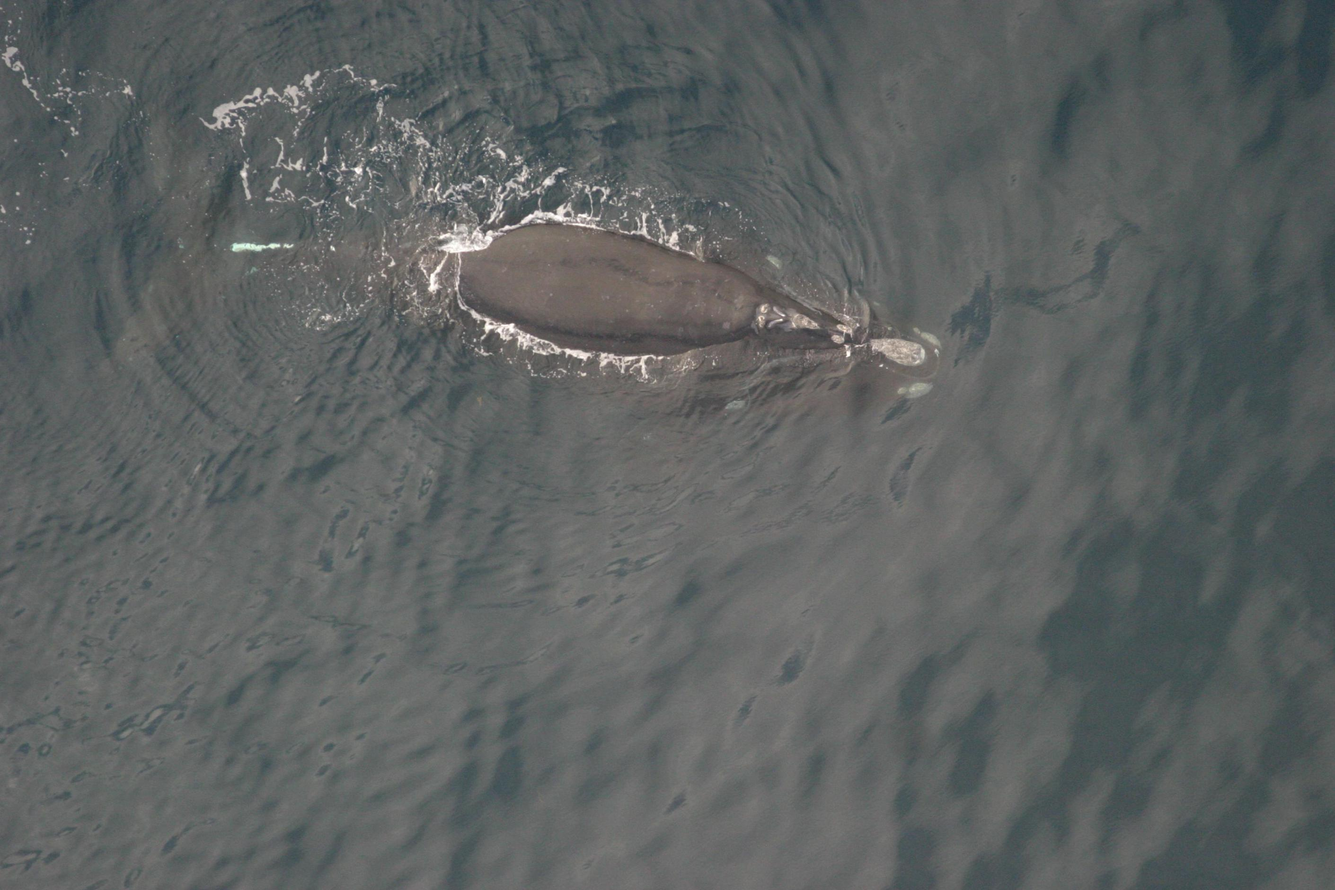whale: (93, 77, 962, 418)
